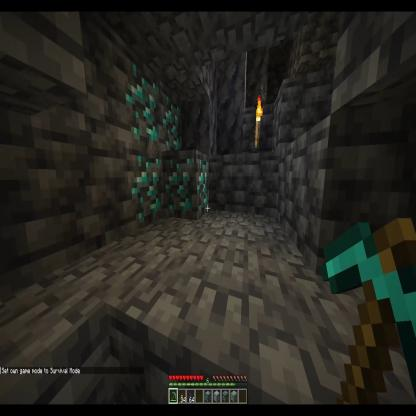diamond ore: (124, 48, 158, 152), (162, 147, 209, 216), (127, 150, 162, 225), (162, 86, 184, 152)
